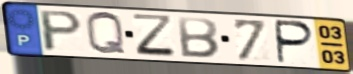7: (232, 17, 269, 63)
B: (176, 15, 221, 60)
P: (39, 9, 85, 53), (275, 19, 317, 66)
Q: (83, 10, 129, 57)
Z: (130, 12, 180, 59)
